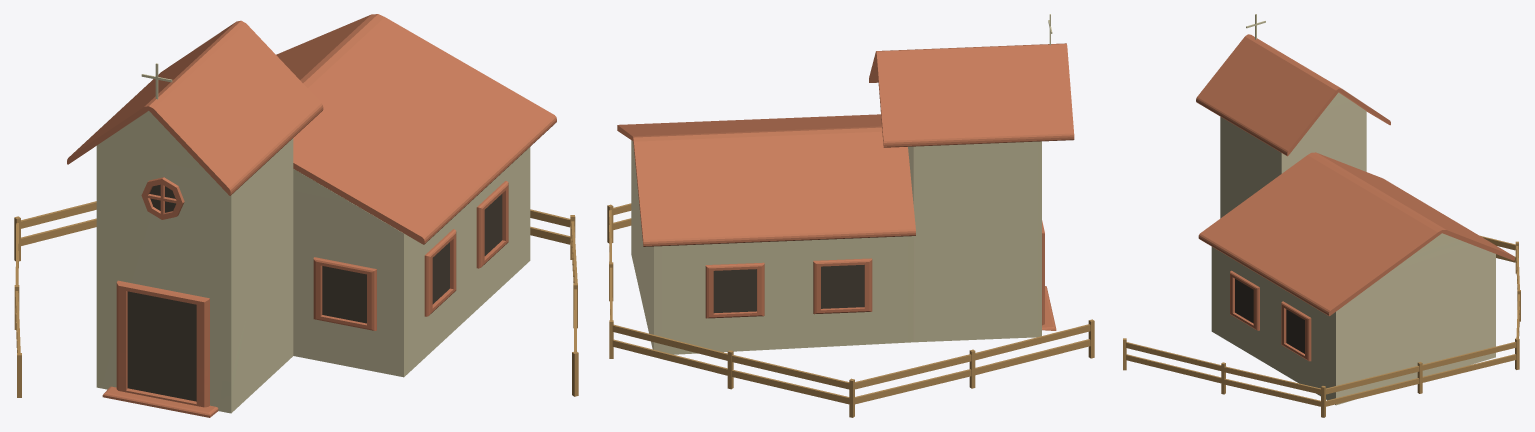
File: church.glb
The picture shows the model from 3 angles, left to right: view 1: azimuth 30°, elevation 25°; view 2: azimuth 150°, elevation 25°; view 3: azimuth 270°, elevation 25°; orthographic projection. The views are drawn at different scales.
Parts seen in each view (by area): view 1: Cube.090_Material.001_0, Cube.091_Material.001_0; view 2: Cube.090_Material.001_0, Cube.091_Material.001_0; view 3: Cube.090_Material.001_0, Cube.091_Material.001_0.
Part boxes in pixels (x1=…): Cube.090_Material.001_0: x1=67, y1=14, x2=556, y2=417; Cube.091_Material.001_0: x1=14, y1=201, x2=578, y2=397; Cube.090_Material.001_0: x1=617, y1=14, x2=1074, y2=354; Cube.091_Material.001_0: x1=607, y1=203, x2=1094, y2=417; Cube.090_Material.001_0: x1=1196, y1=14, x2=1514, y2=405; Cube.091_Material.001_0: x1=1123, y1=235, x2=1520, y2=417.
Bounding box in the file's own units: 1.73 × 1.01 × 1.5.
1 material, 1 textured.
